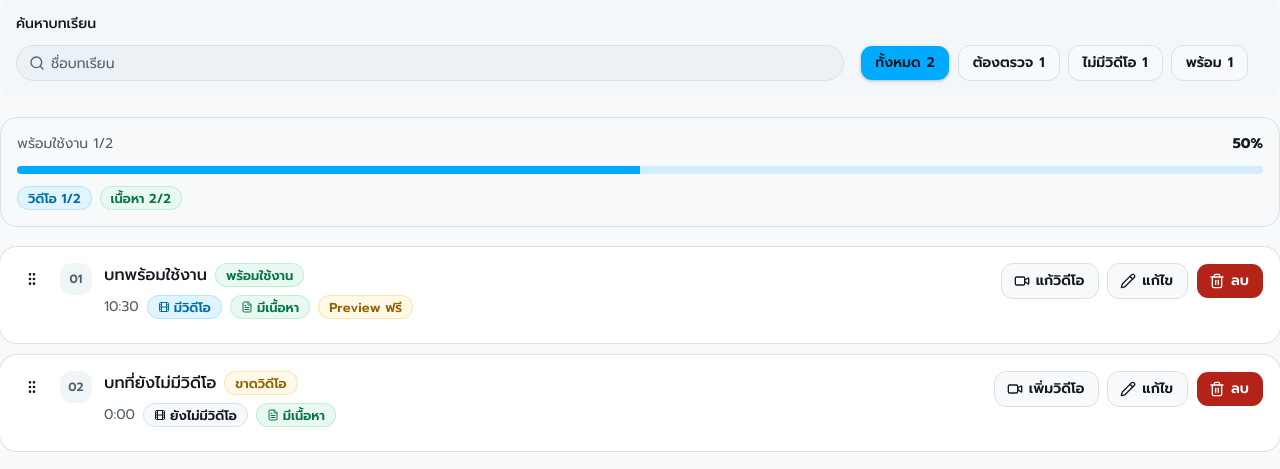
Test: DraggableLessonList › filters with pressed buttons and disables drag handles while filtering
The width and height of the screenshot is (1280, 469).
Click the button "ต้องตรวจ 1" at (1009, 63), box x1=958 y1=45 x2=1060 y2=81
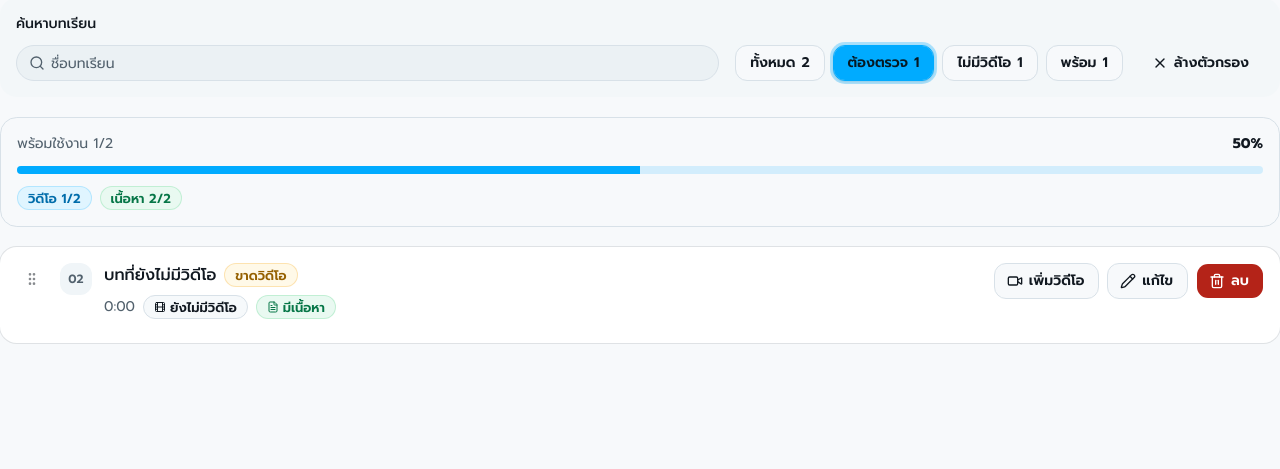
Expected: the link "บทที่ยังไม่มีวิดีโอ" is shown, x1=104 y1=263 x2=216 y2=287
Expected: the link "บทพร้อมใช้งาน" is gone
Expected: the button named "ลากเพื่อจัดลำดับบทเรียน" is disabled, x1=16 y1=263 x2=48 y2=295
